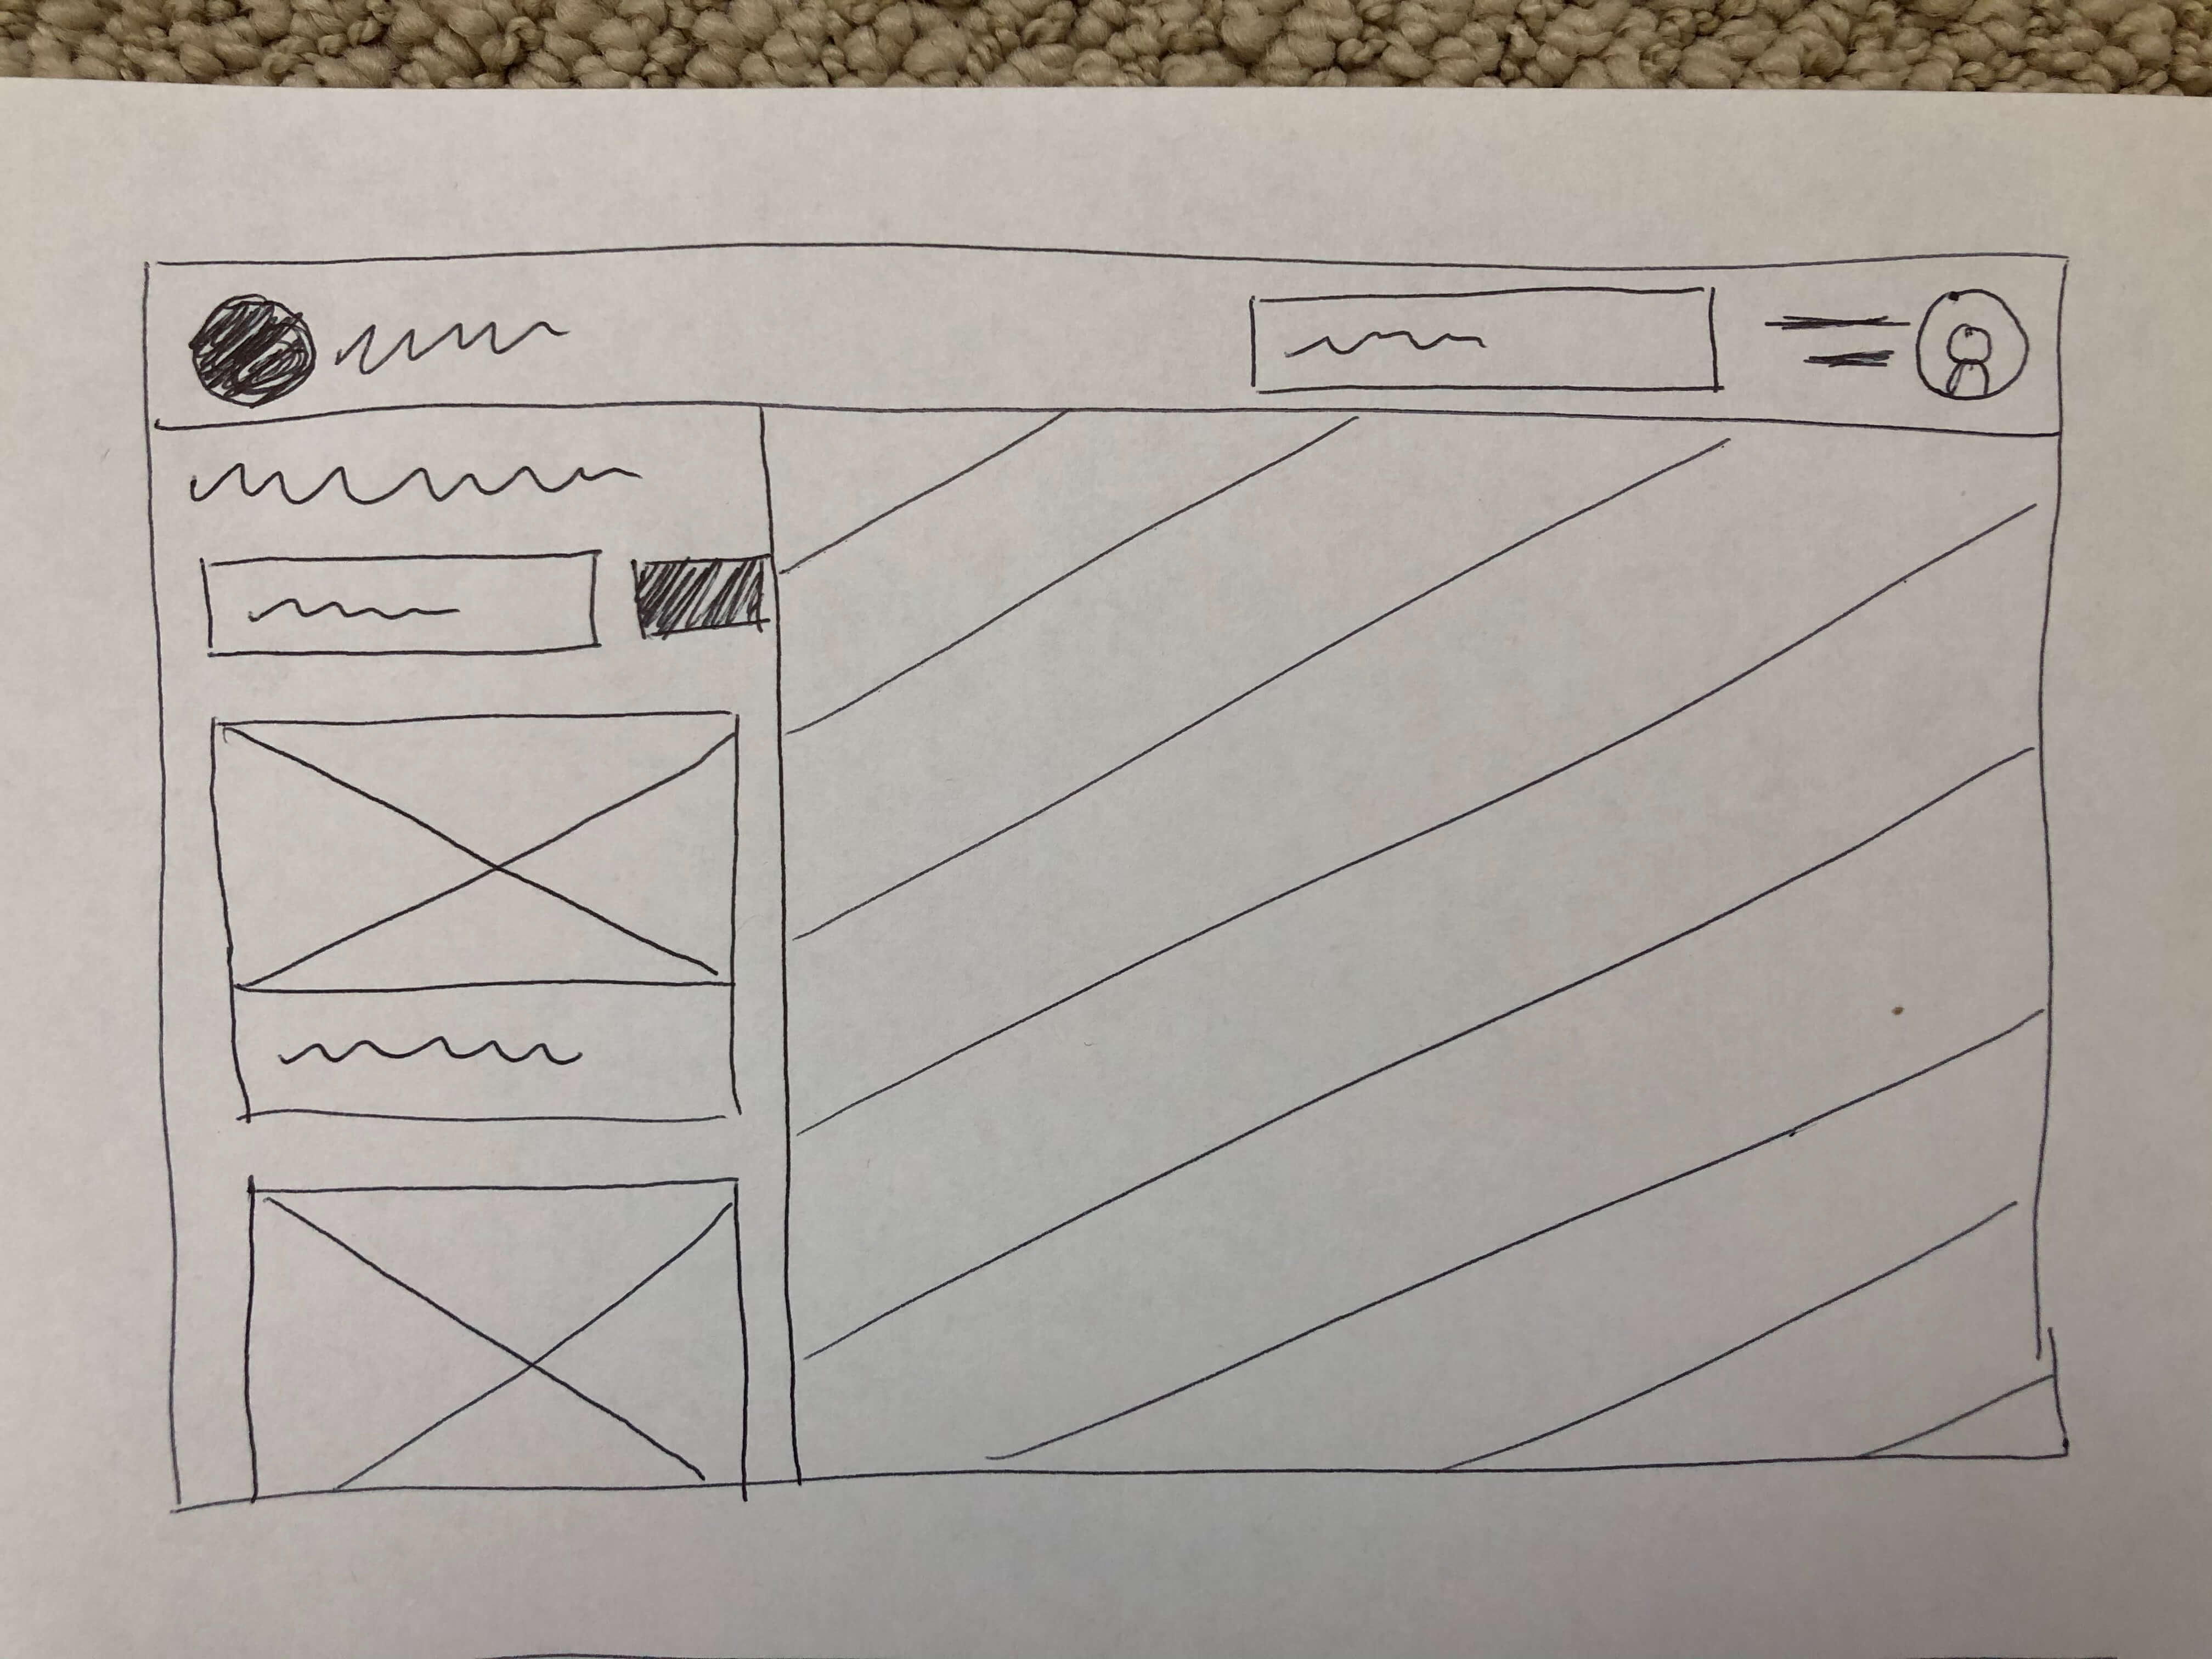avatar: (1754, 282, 2038, 420)
button: (625, 545, 772, 640)
card: (202, 704, 751, 1134)
input: (1238, 274, 1730, 401), (193, 542, 615, 667)
map: (752, 389, 2083, 1490)
